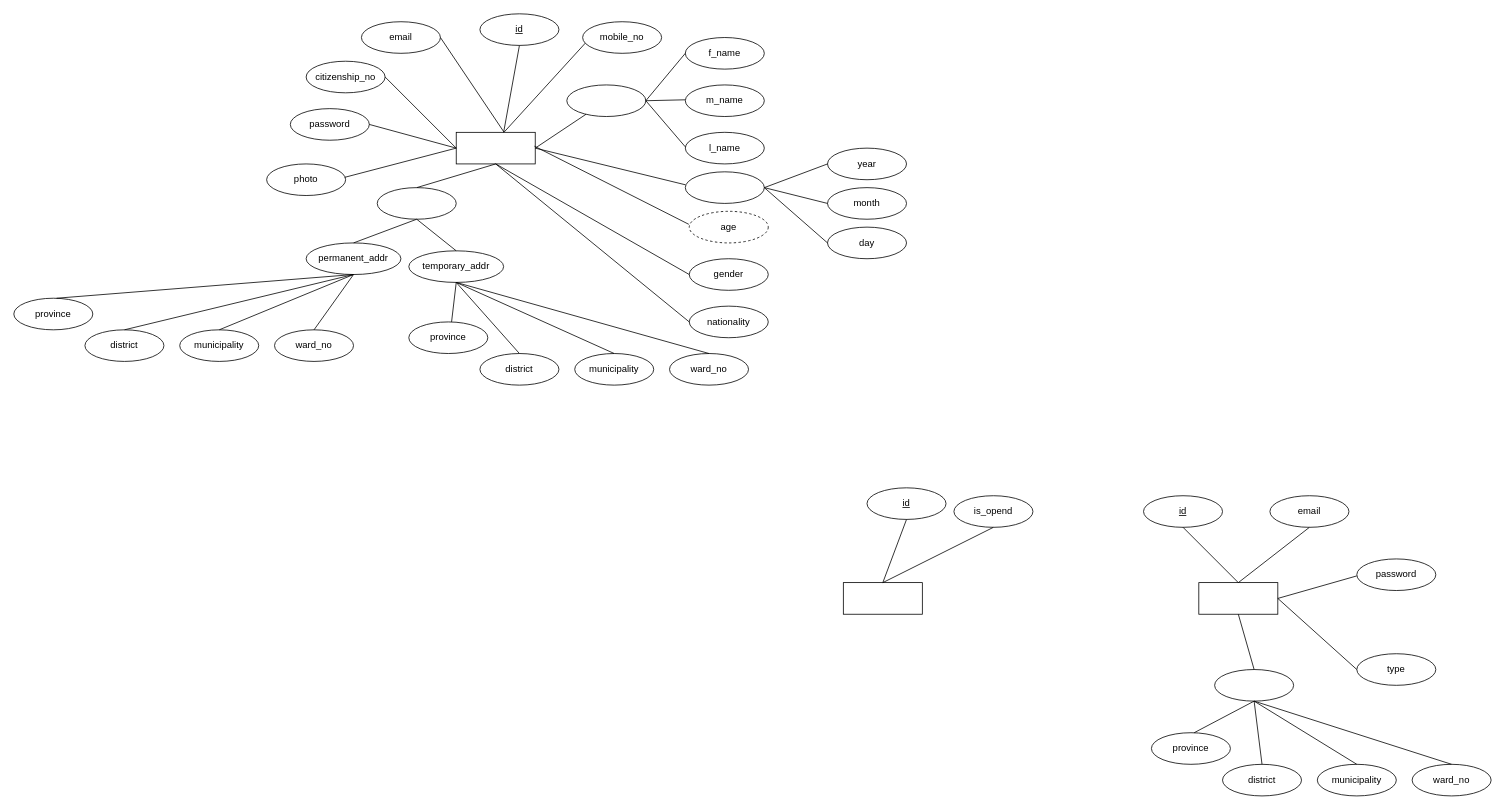
Image size: 1505x810. Some labels were removed from this diagram. Each missing label, with the centre of its shape:
address: point (416, 203)
citizen: point (495, 148)
date_of_birth: point (724, 187)
government: point (1238, 598)
location: point (1254, 685)
name: point (606, 100)
vacancy: point (882, 598)
